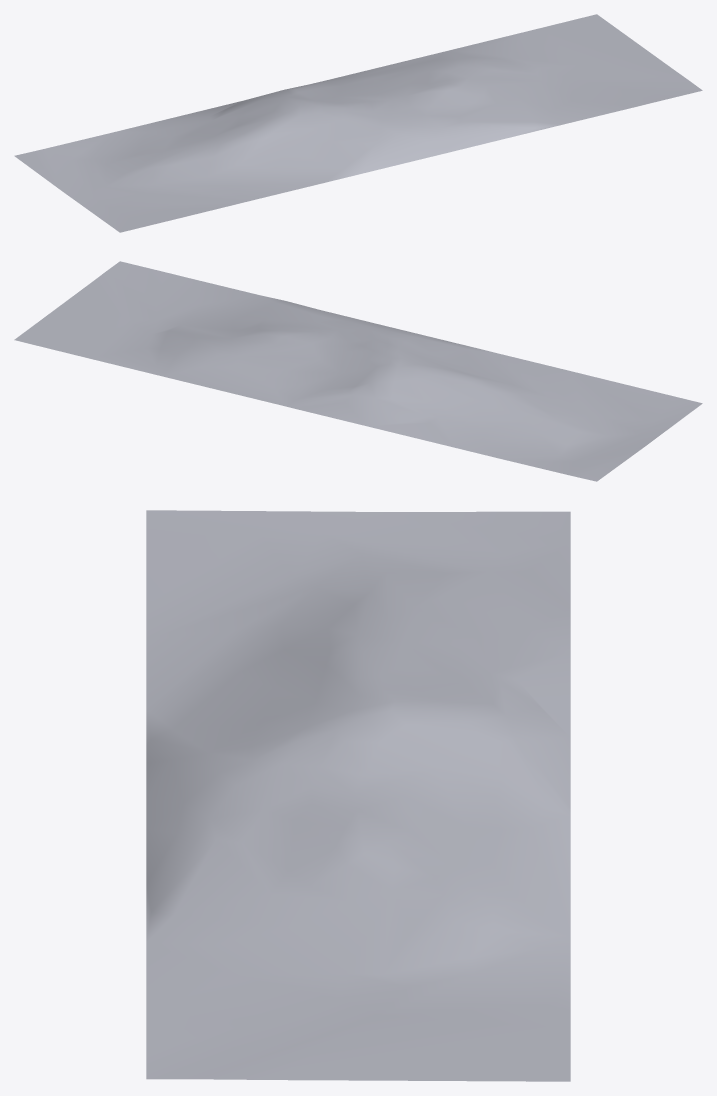
File: Landscape Plane.fbx
The picture shows the model from 3 angles, top to bottom: view 1: azimuth 30°, elevation 25°; view 2: azimuth 150°, elevation 25°; view 3: azimuth 270°, elevation 25°; orthographic projection. The views are drawn at different scales.
Visible parts, largest first — view 1: Landscape Plane A; view 2: Landscape Plane A; view 3: Landscape Plane A.
Part boxes in pixels (x1,y1,x2,y2): Landscape Plane A: (14,14,702,232); Landscape Plane A: (14,261,702,481); Landscape Plane A: (146,510,570,1081).
Bounding box in the file's own units: 78.78 × 3.34 × 24.82.
